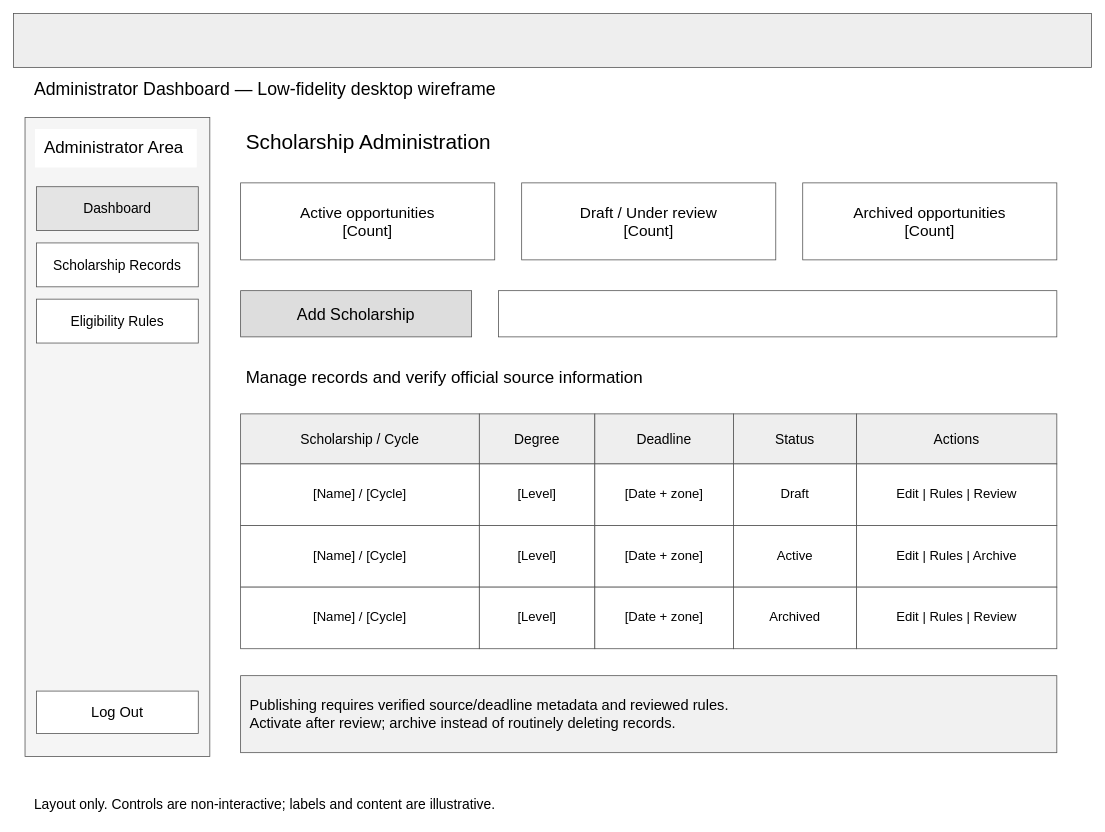
Some shapes in this 1105 by 832 pixel diagram are drawn without their labels. Here are the shapes that lost their labels. From the top down, the box of each, then its label:
(13, 13, 1091, 67): ScholarshipMatch
(498, 290, 1057, 337): Search name / cycle | Filter status
